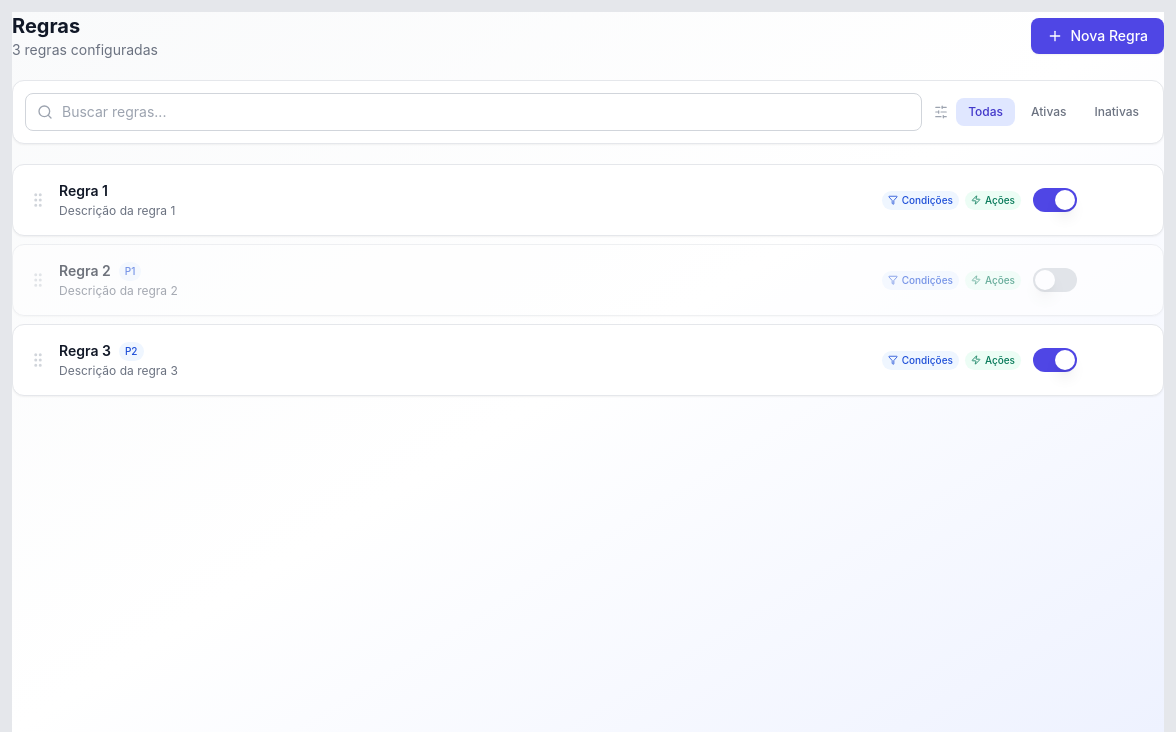
RuleListView › should filter rules by search query
Expected: the heading "Regra 1" is shown, top-left (59, 181), bottom-right (108, 201)
Type "Regra 1" into the field with placeholder "Buscar regras..." at (474, 112), box top-left (25, 93), bottom-right (922, 131)
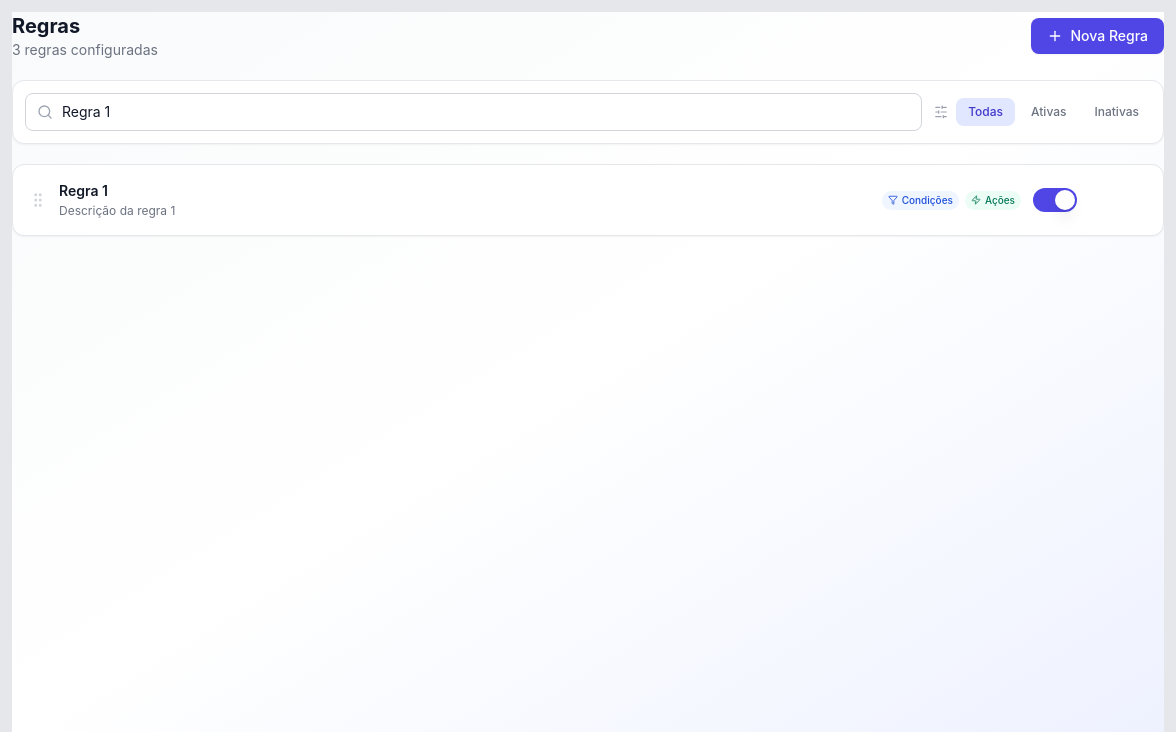
Expected: the heading "Regra 1" is shown, top-left (59, 181), bottom-right (108, 201)
Result: the button "Regra 2" is gone
